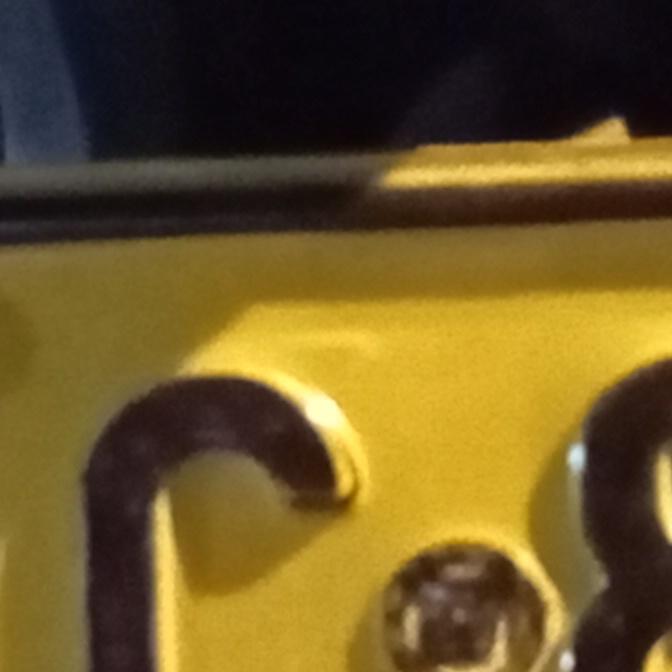plates: (0, 129, 672, 672)
